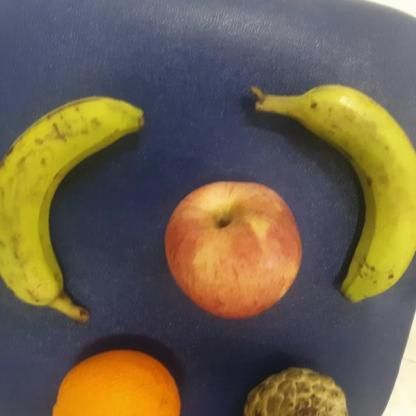annona: (239, 362, 354, 416)
apple: (162, 179, 304, 320)
banana: (0, 94, 155, 310), (294, 79, 416, 306)
orange: (51, 348, 184, 416)
